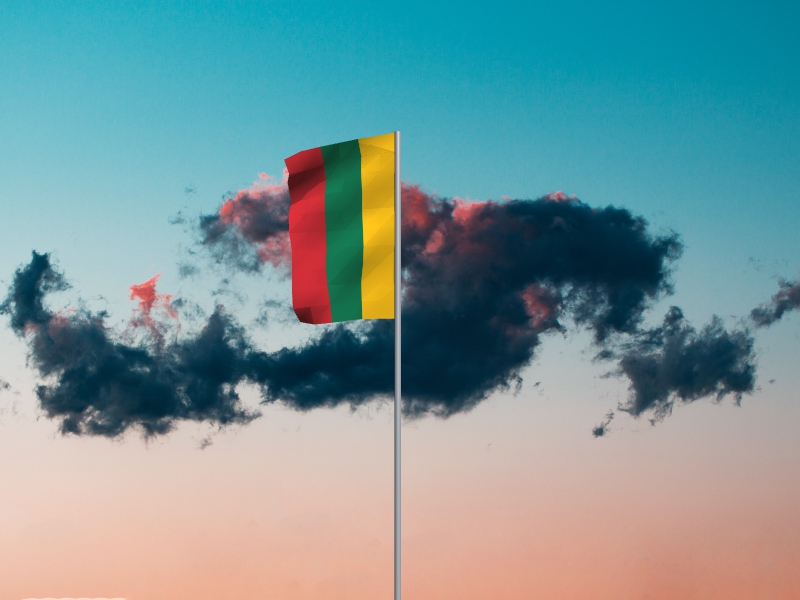lt: (284, 133, 394, 326)
